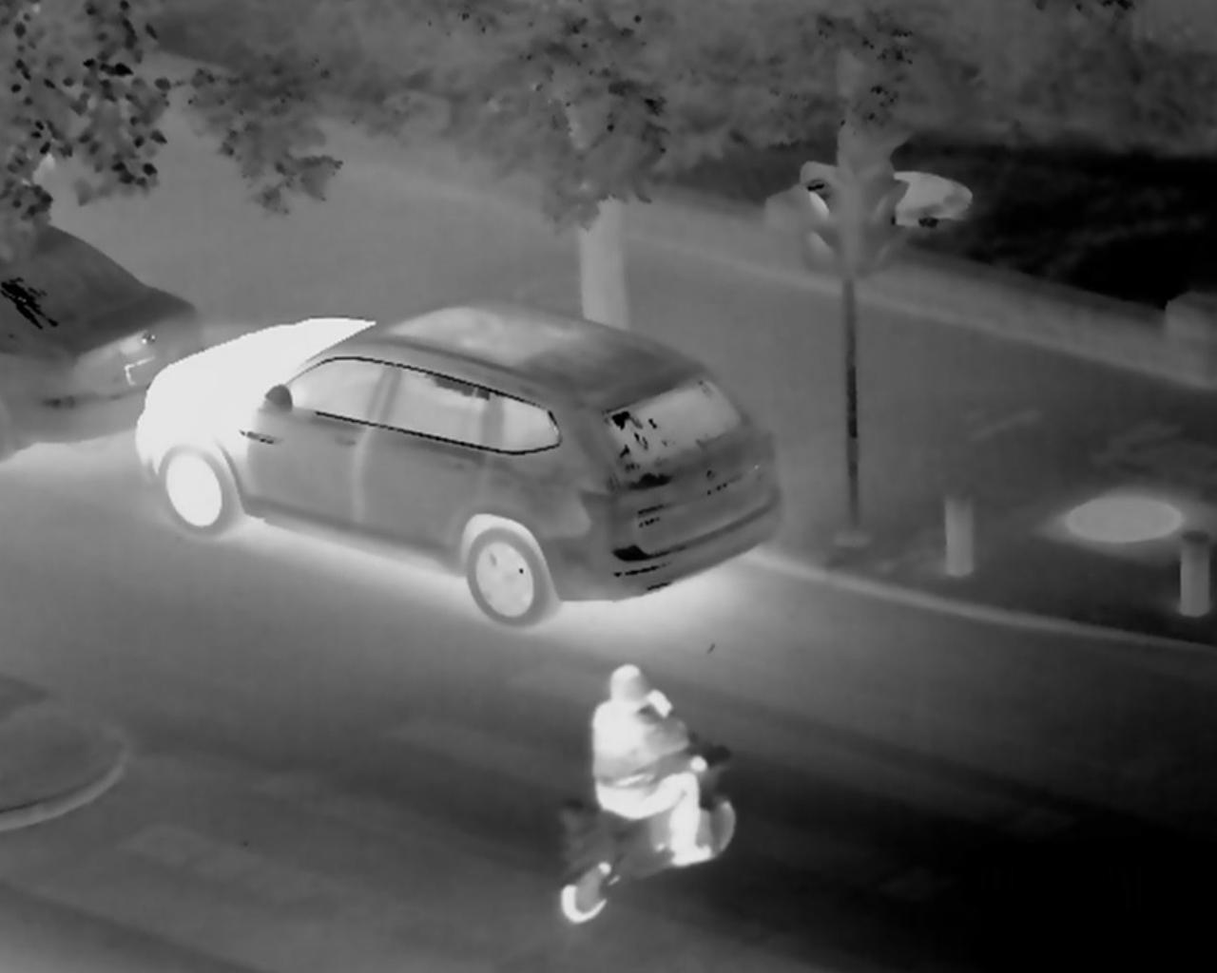person: (578, 649, 739, 898)
